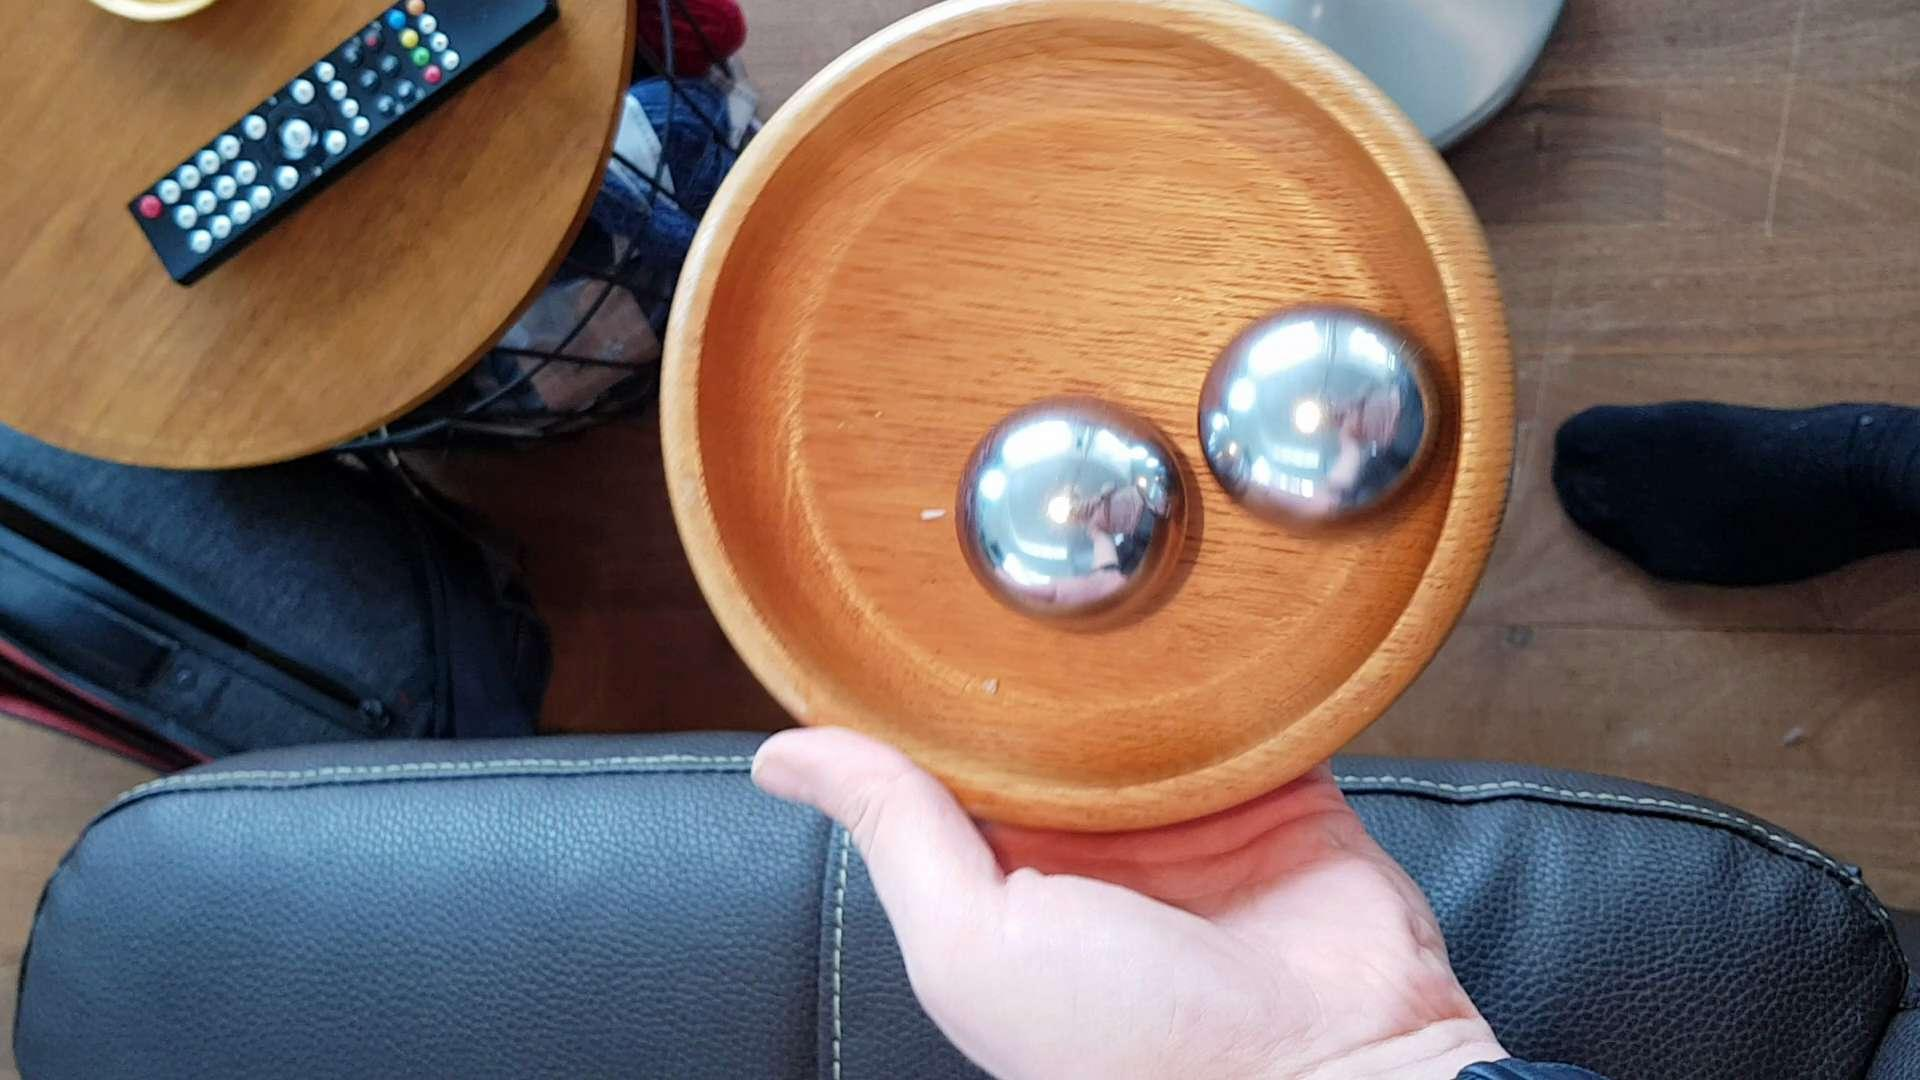sphere: (951, 400, 1209, 642), (1200, 302, 1441, 541)
